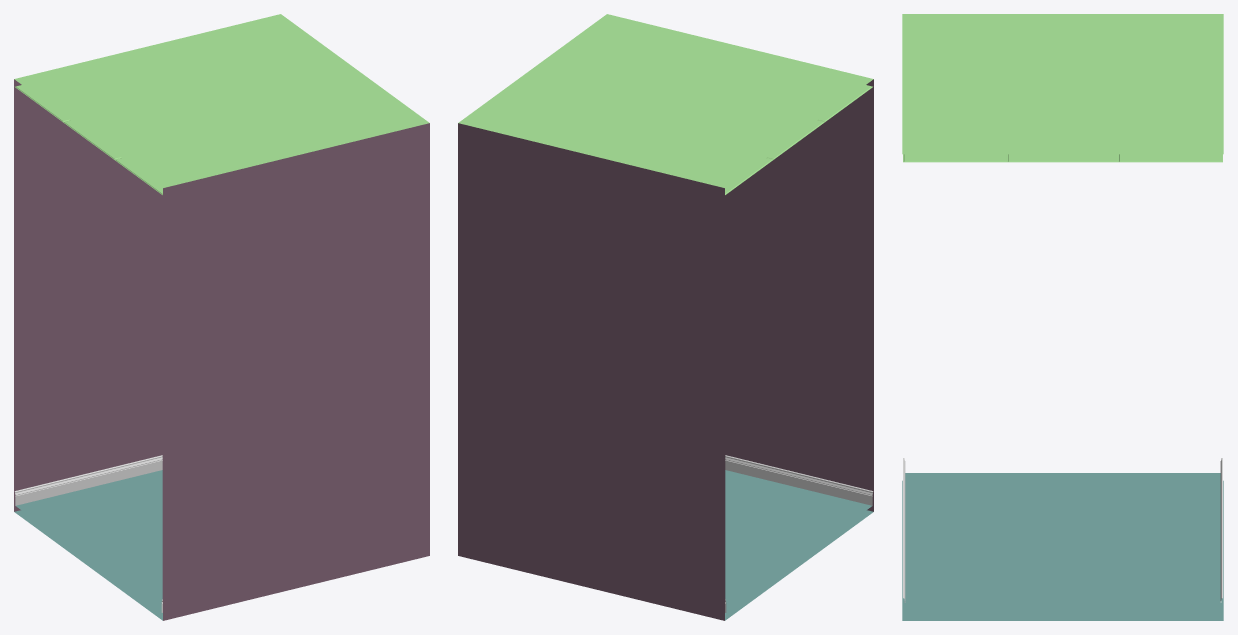
The model's file is Corridor_no_doors_w_light.fbx.
3 views of the same model, side by side, from view 1: azimuth 30°, elevation 25°; view 2: azimuth 150°, elevation 25°; view 3: azimuth 270°, elevation 25° (orthographic). The views are drawn at different scales.
Visible parts, largest first — view 1: Corridor_no_doors, Corridor_ceiling_w_light; view 2: Corridor_no_doors, Corridor_ceiling_w_light; view 3: Corridor_no_doors, Corridor_ceiling_w_light.
Part boxes in pixels (box(x1,y1,x2,y2)): Corridor_no_doors: box(14, 14, 429, 620); Corridor_ceiling_w_light: box(15, 85, 162, 194); Corridor_no_doors: box(458, 14, 873, 620); Corridor_ceiling_w_light: box(725, 85, 872, 194); Corridor_no_doors: box(902, 14, 1223, 620); Corridor_ceiling_w_light: box(903, 154, 1222, 162).
Size of the model in its own units: 2 by 3.1 by 1.94.
